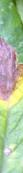Tomato Early blight leaf: (0, 33, 23, 173)
